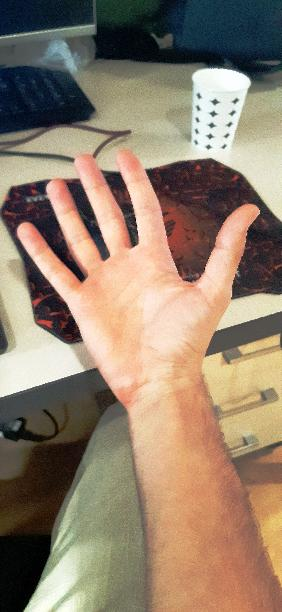Paper: (14, 146, 263, 400)
